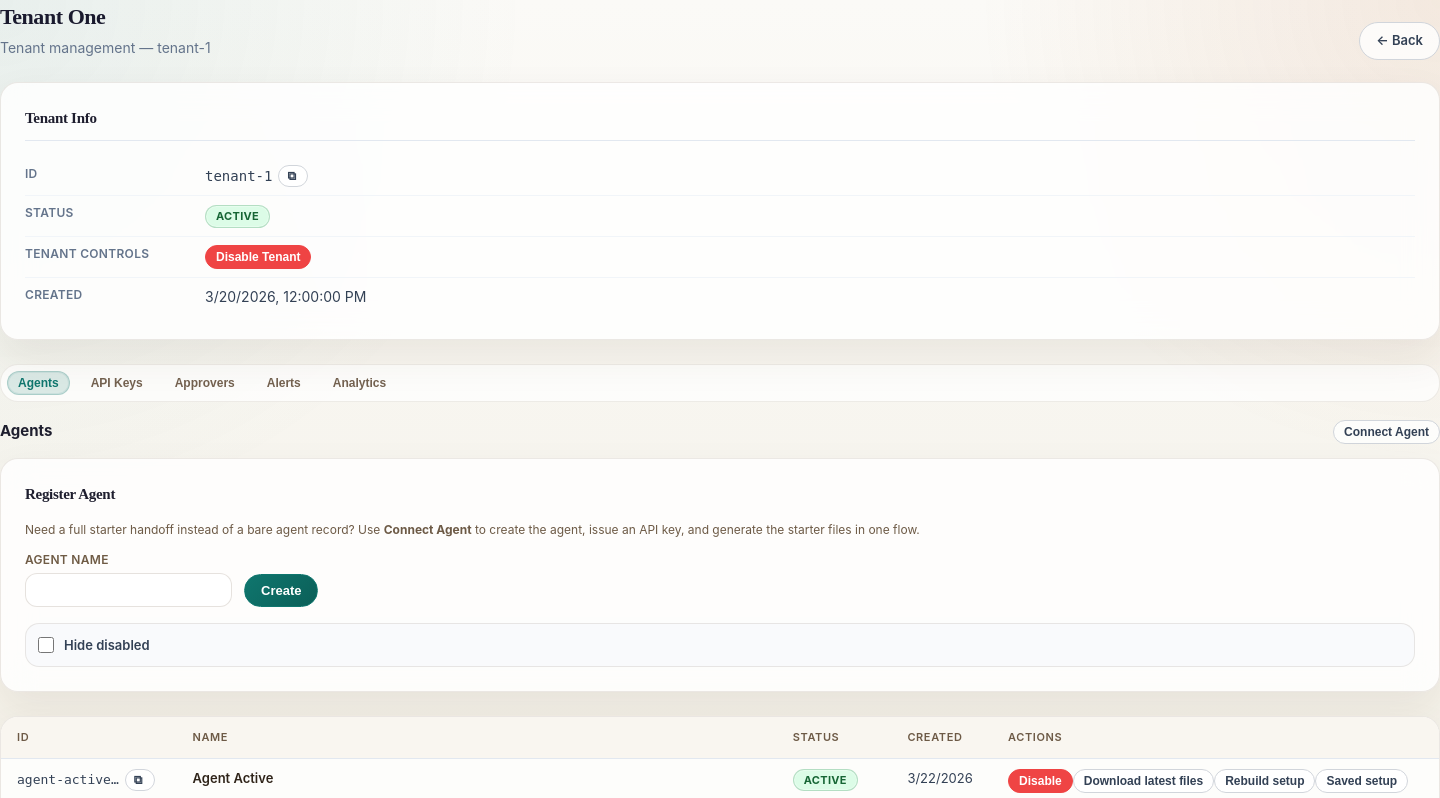
Tenant detail page › creates agents and toggles both agent and tenant status
Expected: the text "Agent Active" is shown, left=192, top=770, right=273, bottom=786
Type "Agent Fresh" into the field labelled "Agent Name". click: (128, 590)
box: left=25, top=573, right=232, bottom=607
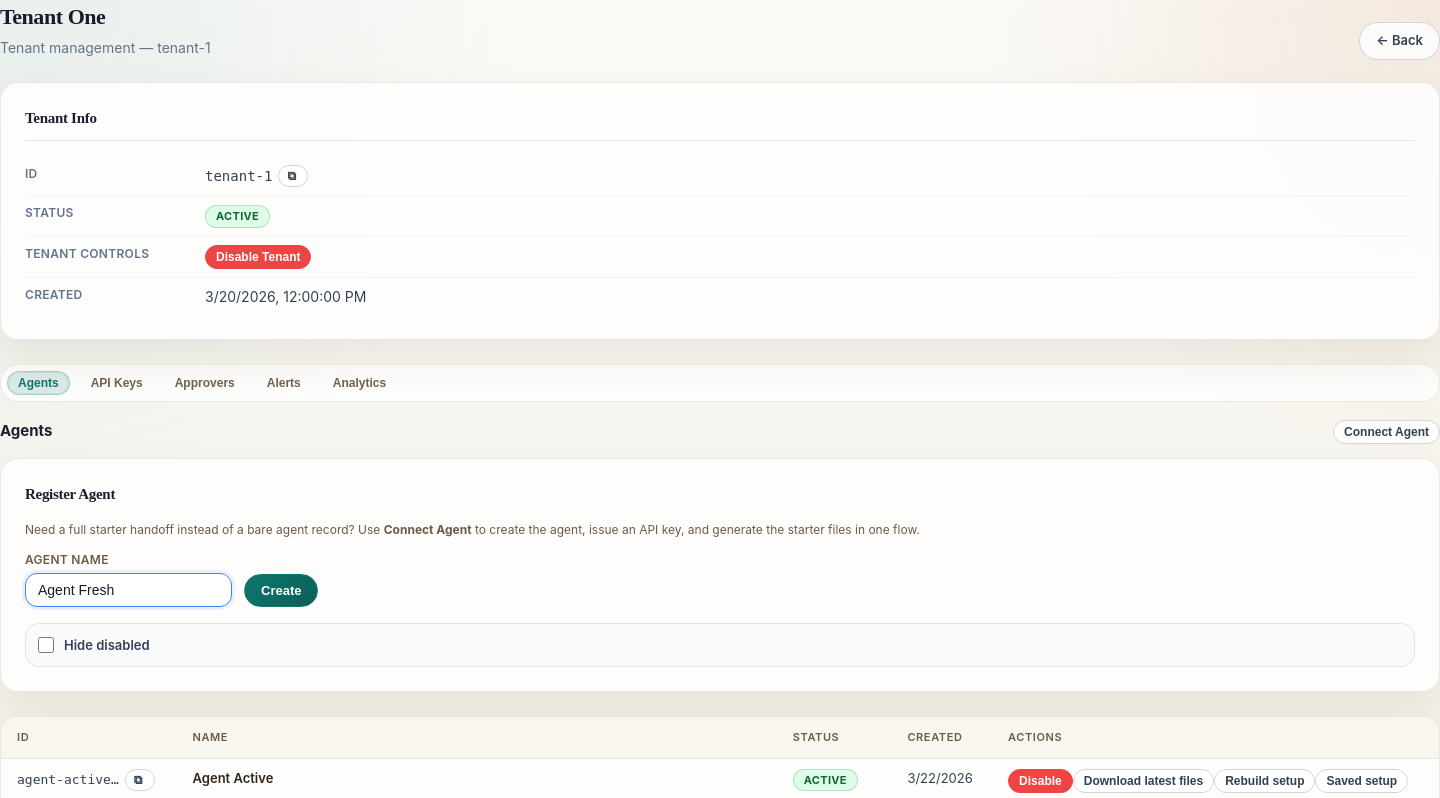
Click the button "Create". click: (281, 590)
box: left=244, top=574, right=318, bottom=607
(page scrolled)
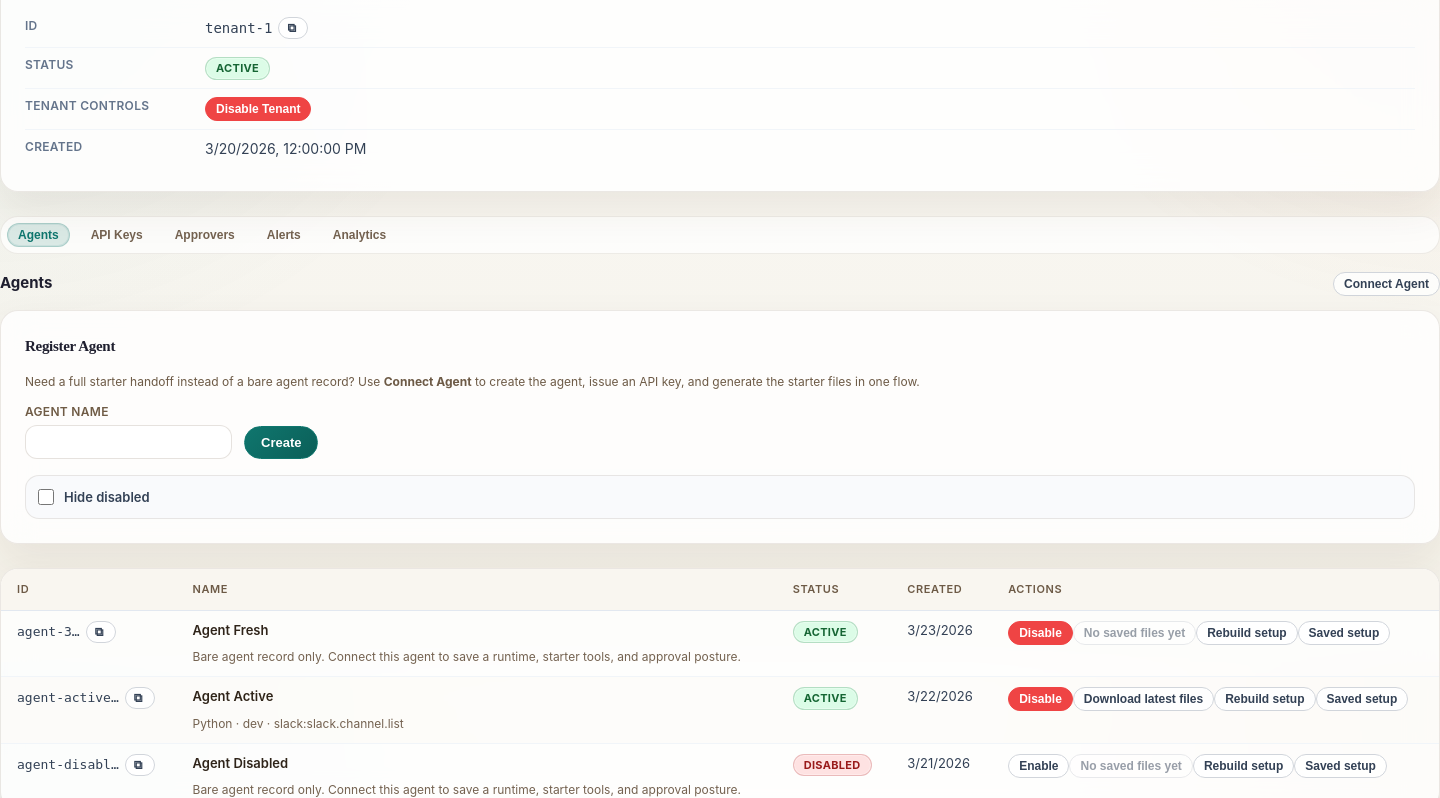
Expected: the text "Agent Active" is shown, left=192, top=688, right=273, bottom=704
Expected: the text "Agent Fresh" is shown, left=192, top=622, right=268, bottom=638
Click the button "Disable" in the row of "agent-active". click: (1040, 699)
box: left=1008, top=687, right=1073, bottom=711
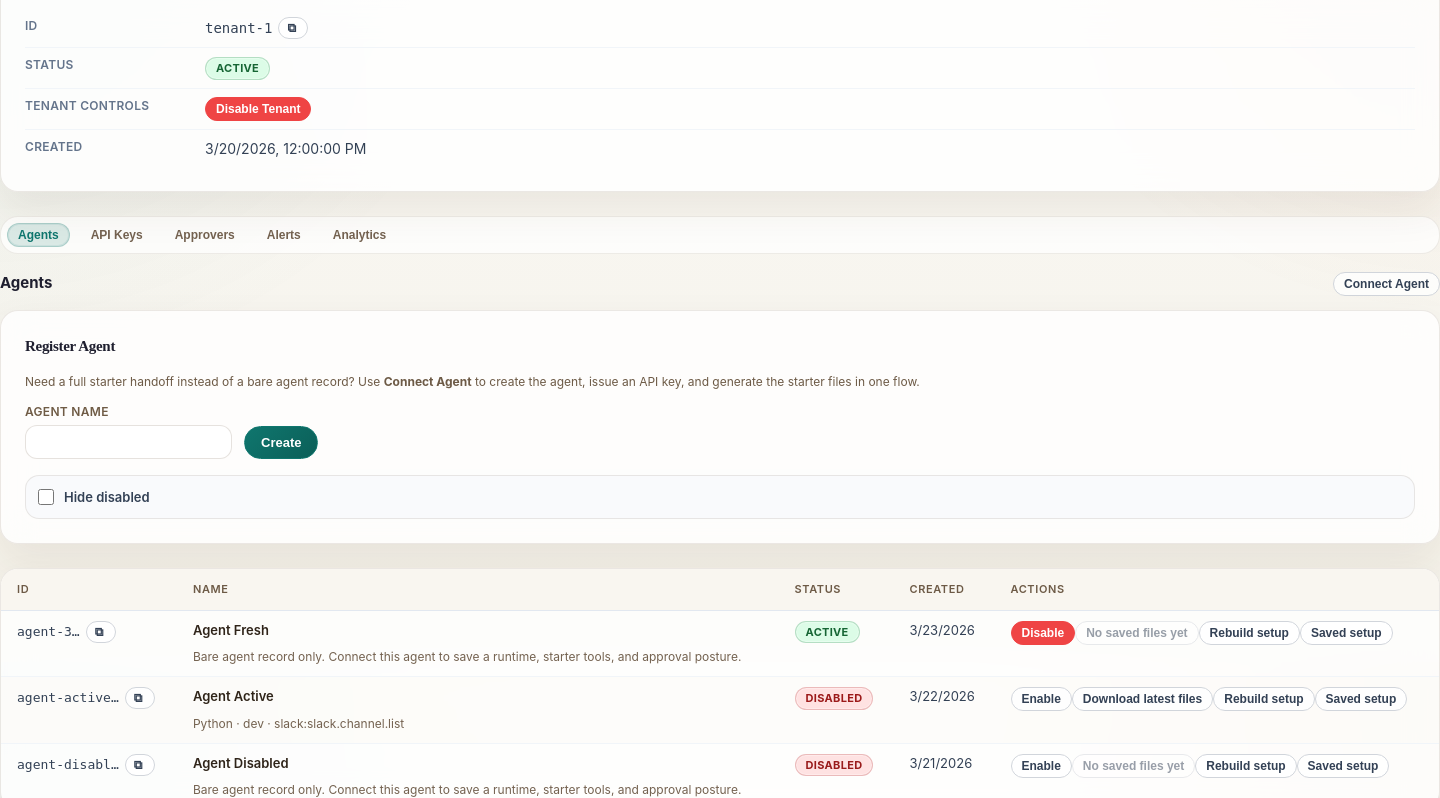
Expected: the text "disabled" in the row of "agent-active" is shown, left=806, top=691, right=862, bottom=705
Click the button "Disable Tenant". click: (258, 108)
box: left=205, top=96, right=312, bottom=120
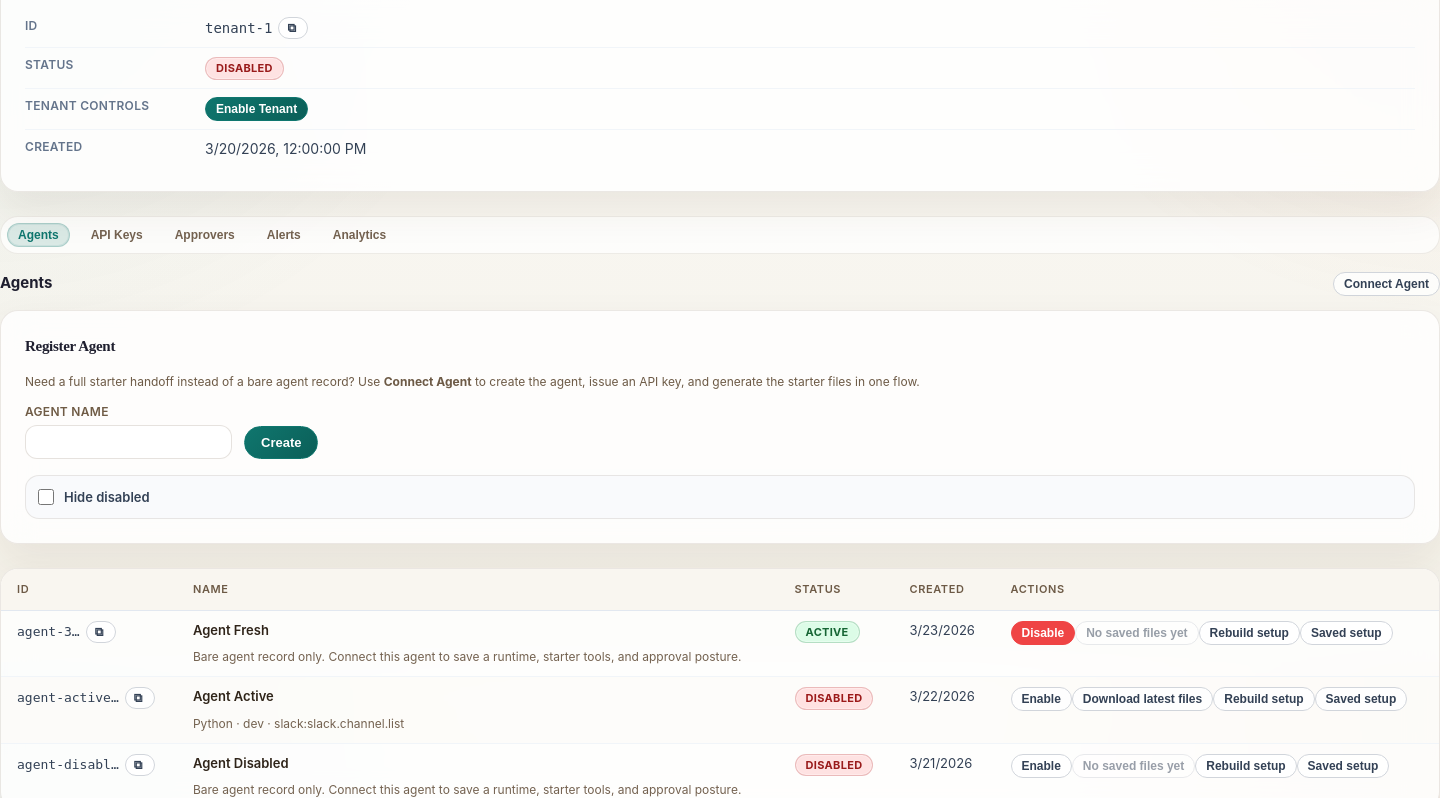
Expected: the button "Enable Tenant" is shown, left=205, top=96, right=308, bottom=120
